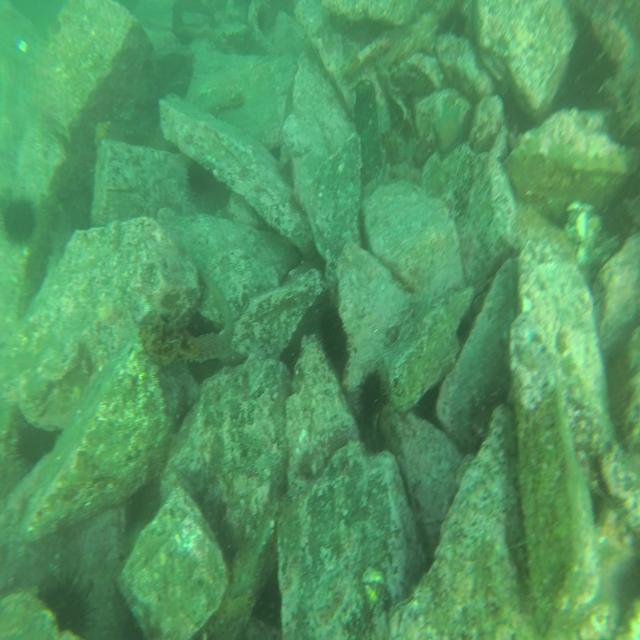echinus: (35, 571, 98, 640), (315, 305, 352, 377), (0, 189, 38, 251), (355, 371, 387, 427), (184, 154, 214, 198)
